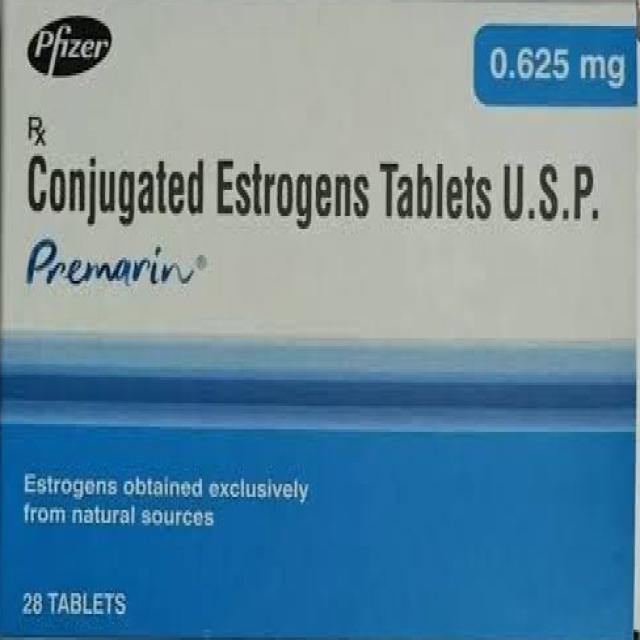drug-name: (20, 224, 202, 298)
